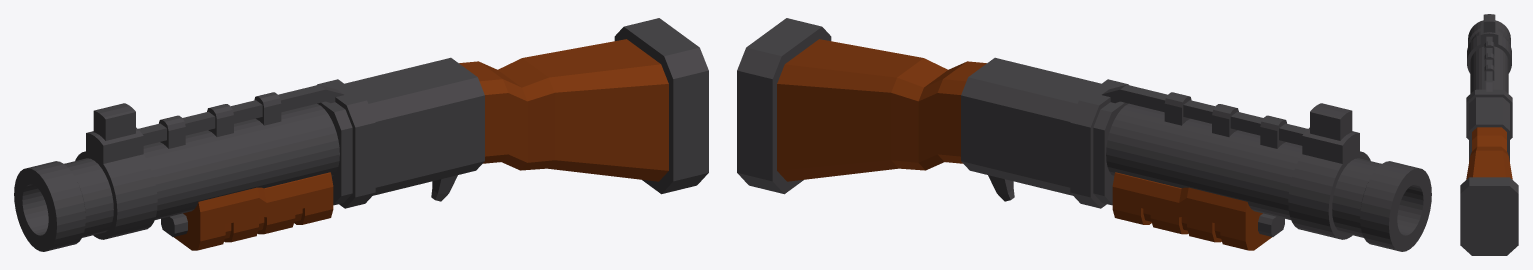
3 views of the same model, side by side, from view 1: azimuth 30°, elevation 25°; view 2: azimuth 150°, elevation 25°; view 3: azimuth 270°, elevation 25° (orthographic). The views are drawn at different scales.
Parts seen in each view (by area): view 1: shotgun; view 2: shotgun; view 3: shotgun.
Part boxes in pixels (x1=…): shotgun: x1=14, y1=18, x2=708, y2=251; shotgun: x1=737, y1=18, x2=1431, y2=251; shotgun: x1=1460, y1=14, x2=1518, y2=255.
Size of the model in its own units: 19.4 by 5.78 by 3.06.
